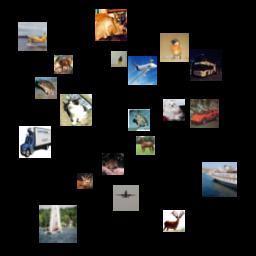airplane: (18, 22, 47, 51), (128, 56, 157, 85), (113, 185, 139, 211)
automobile: (190, 99, 219, 128)
bird: (160, 33, 189, 62), (111, 51, 127, 67)
cat: (95, 9, 127, 41), (60, 94, 92, 126)
deer: (163, 210, 185, 232), (54, 55, 73, 74), (77, 173, 93, 189)
dog: (163, 99, 185, 121)
frog: (35, 77, 57, 99), (128, 109, 150, 131), (102, 153, 124, 175)
ship: (39, 205, 77, 243), (202, 162, 237, 197)
truck: (190, 49, 222, 81), (19, 126, 51, 158)
